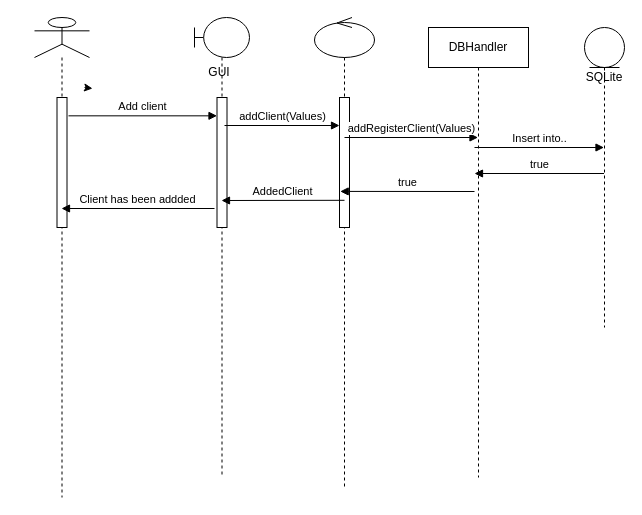
Image size: 642x515. Some labels were removed from this diagram. The shapes that lost their labels are listed below. From the top down, each one's centre as x and y in pixels, then its label:
[62,257]: Client
[344,252]: ManagmentWindow
